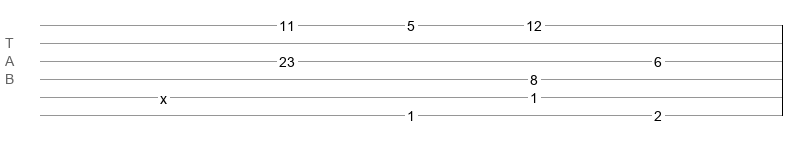1: (407, 108, 415, 118), (530, 90, 538, 100)
11: (279, 18, 295, 28)
12: (526, 18, 542, 28)
2: (654, 108, 662, 118)
23: (279, 54, 295, 64)
5: (407, 18, 415, 28)
6: (654, 54, 662, 64)
8: (530, 72, 538, 82)
x: (160, 91, 167, 99)
